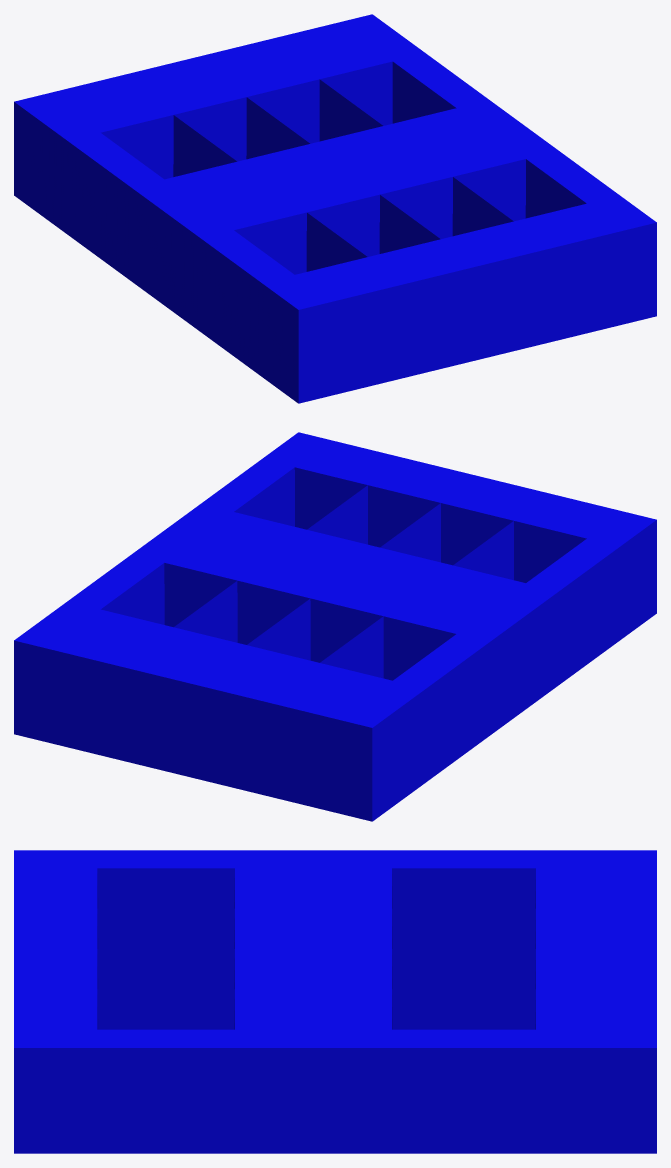
Rendered from Drill Bodies (Bin).fbx.
3 renders of one model, top to bottom at view 1: azimuth 30°, elevation 25°; view 2: azimuth 150°, elevation 25°; view 3: azimuth 270°, elevation 25°, orthographic. The views are drawn at different scales.
Visible parts, largest first — view 1: Cube.012; view 2: Cube.012; view 3: Cube.012.
Part boxes in pixels (x1,y1,x2,y2): Cube.012: (14, 14, 656, 403); Cube.012: (14, 432, 656, 821); Cube.012: (14, 850, 656, 1153).
Bounding box in the file's own units: 20.32 × 5.08 × 27.94.
